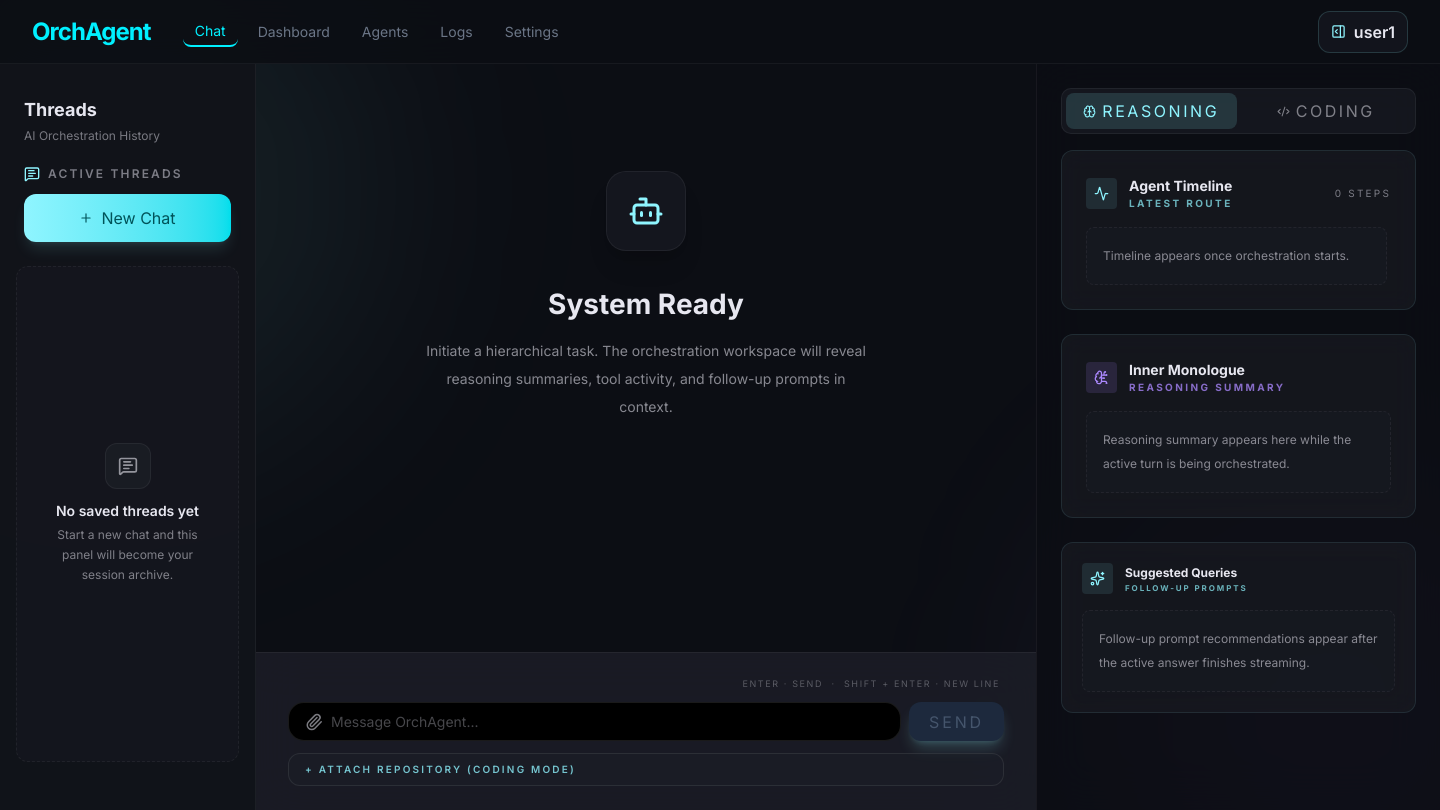
Scenario: profile panel saves and updates the visible user state
This screenshot has width=1440, height=810.
Click the button with aria-label "open account drawer": (1363,32) [1318,10,1408,52]
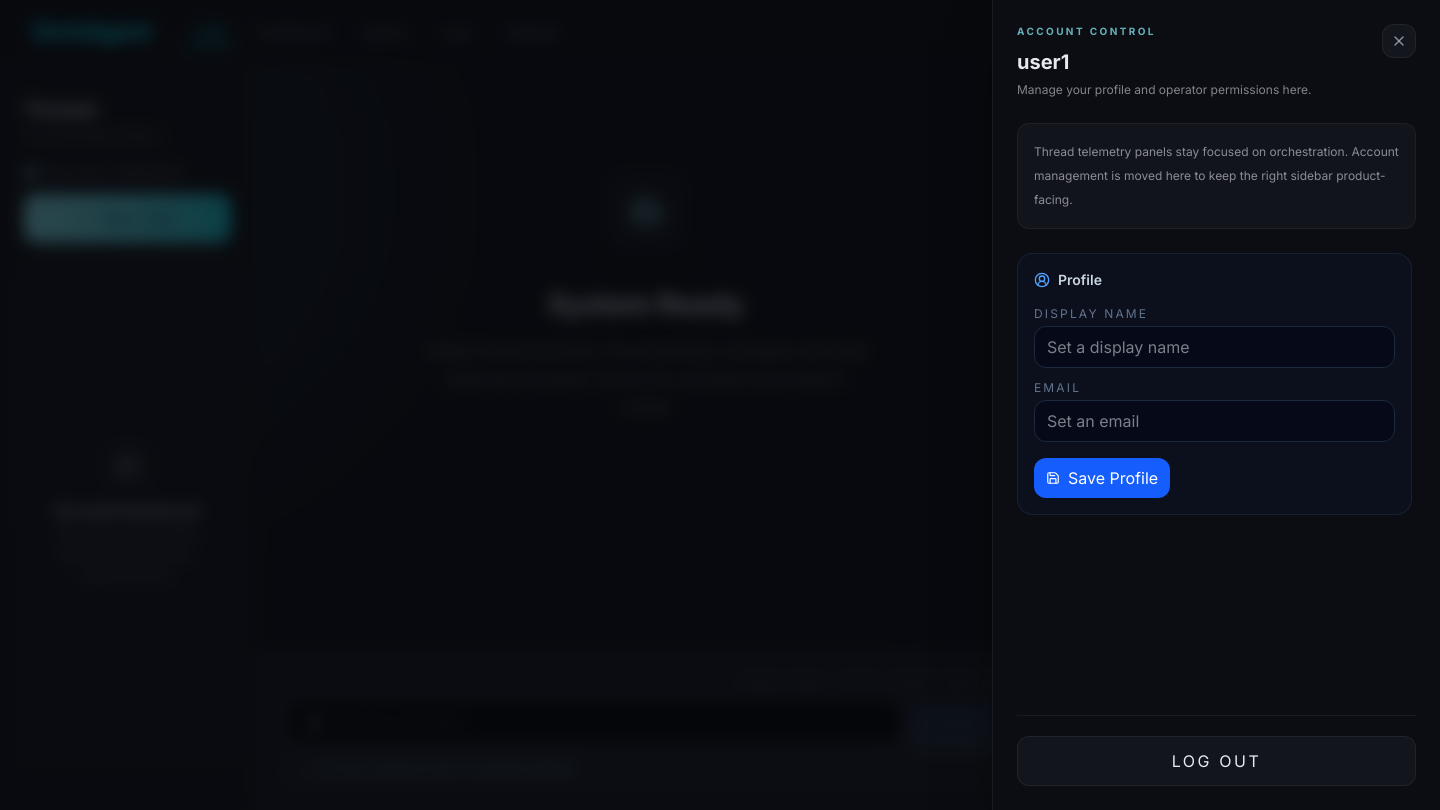
In the field labelled "Display Name": (1214,347) [1034,326,1395,368], type "Updated Name"
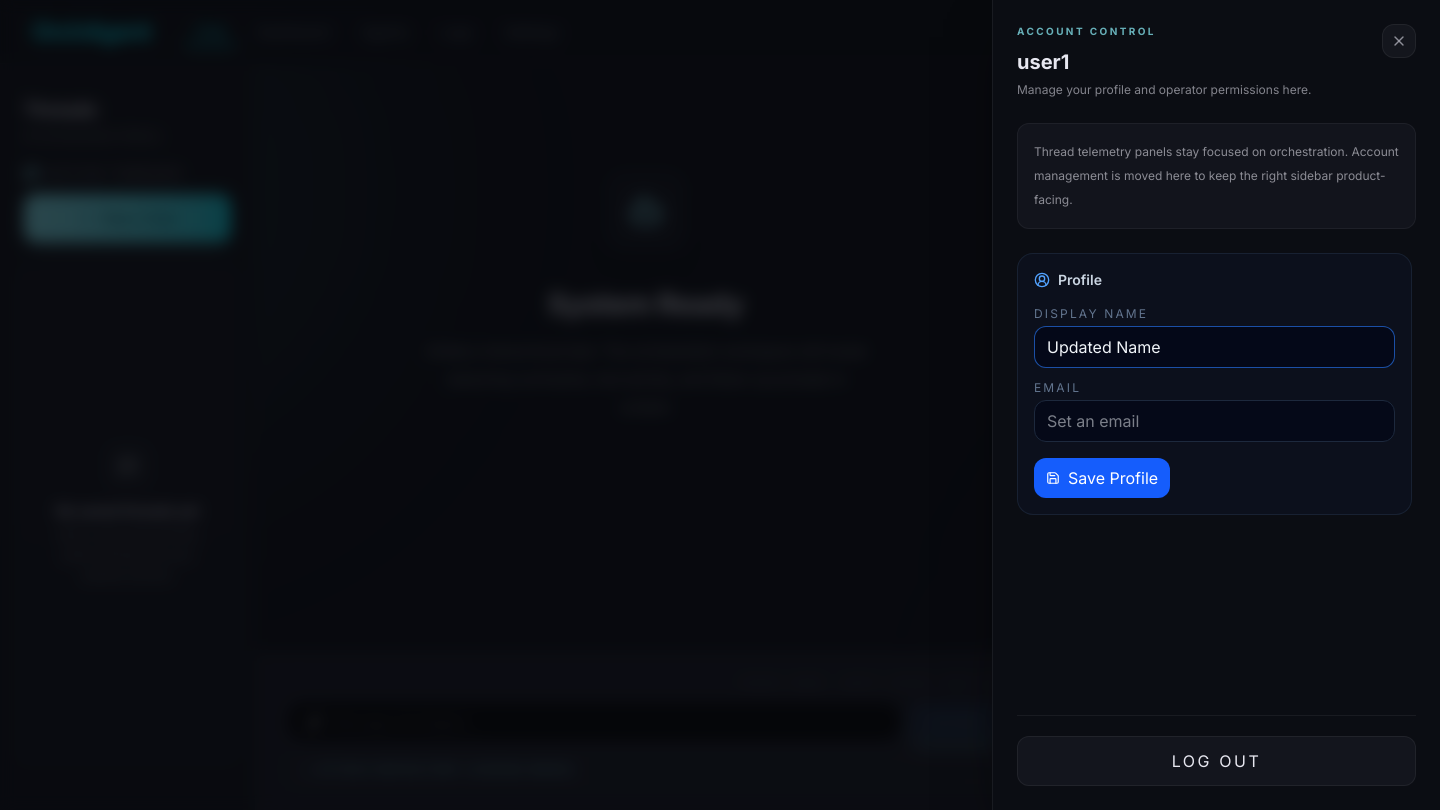
In the field labelled "Email": (1214,421) [1034,400,1395,442], type "updated@example.com"
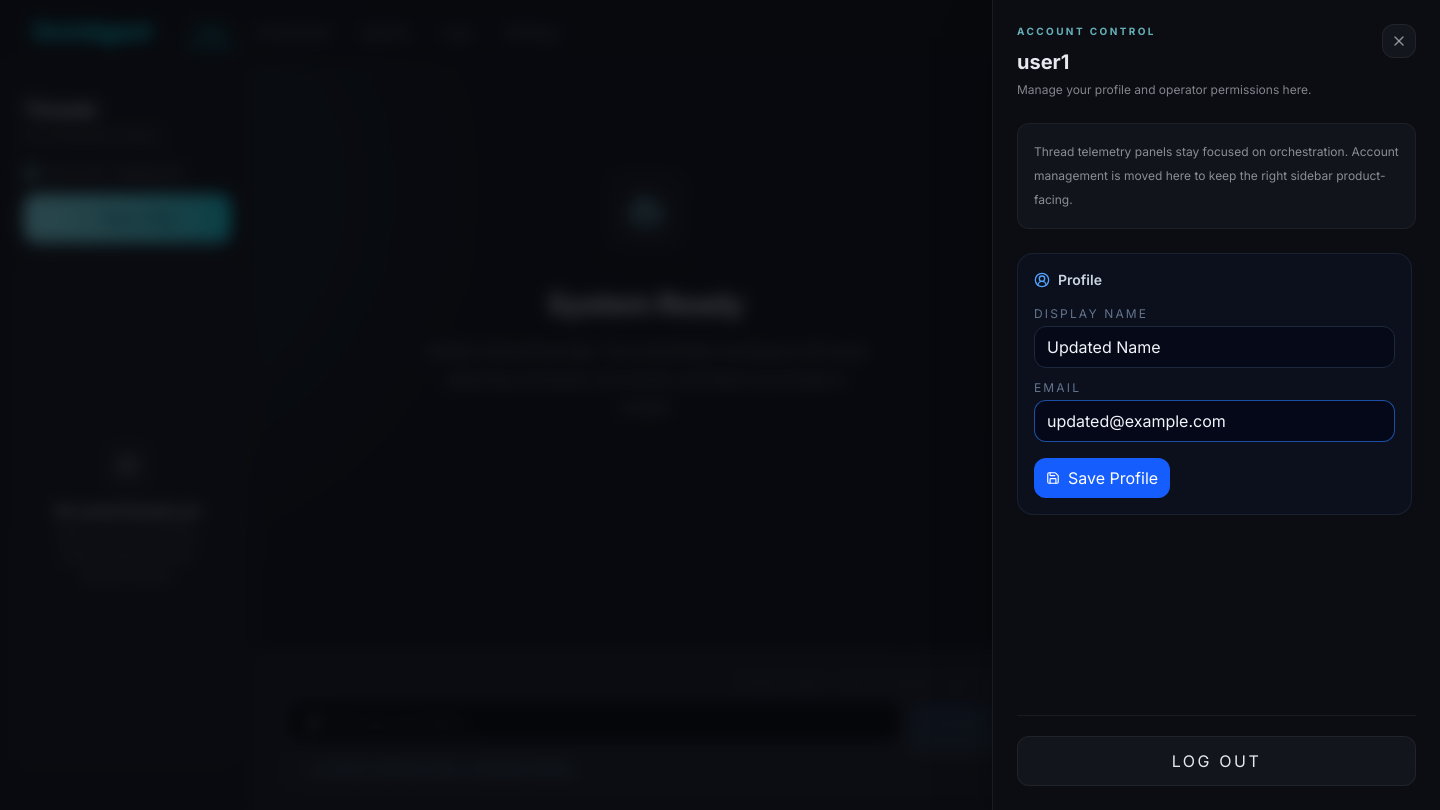
Click the button "Save Profile": (1102,478) [1034,458,1170,498]
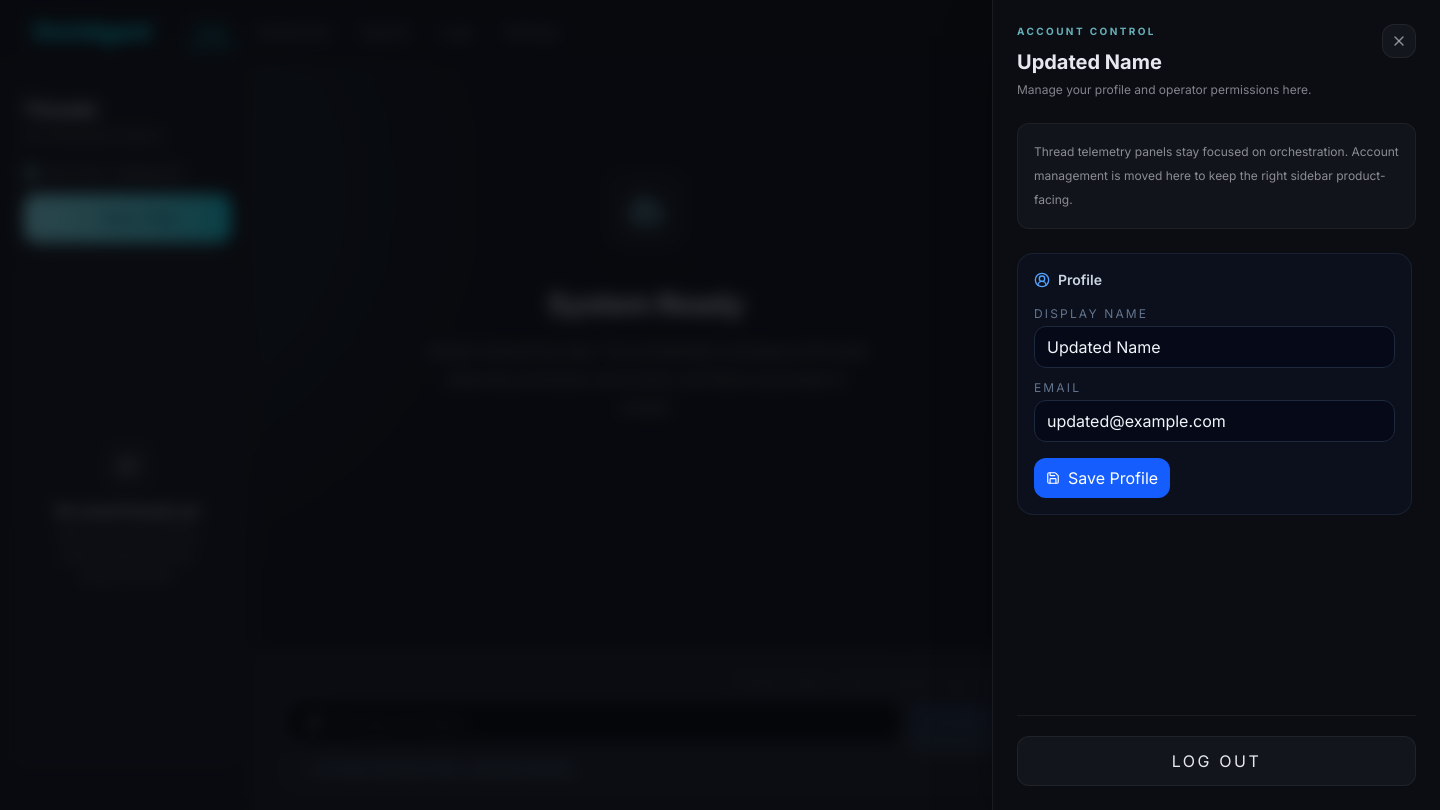
Expected: the heading "Updated Name" is shown, [1017,50,1162,74]
